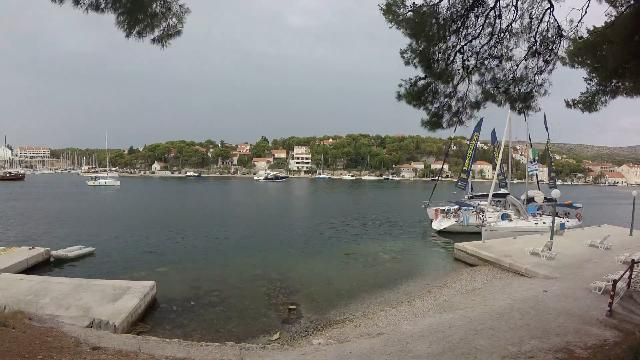Freighter: (1, 164, 32, 184)
Sailboat: (78, 170, 124, 188)
speedboat: (250, 166, 294, 184)
